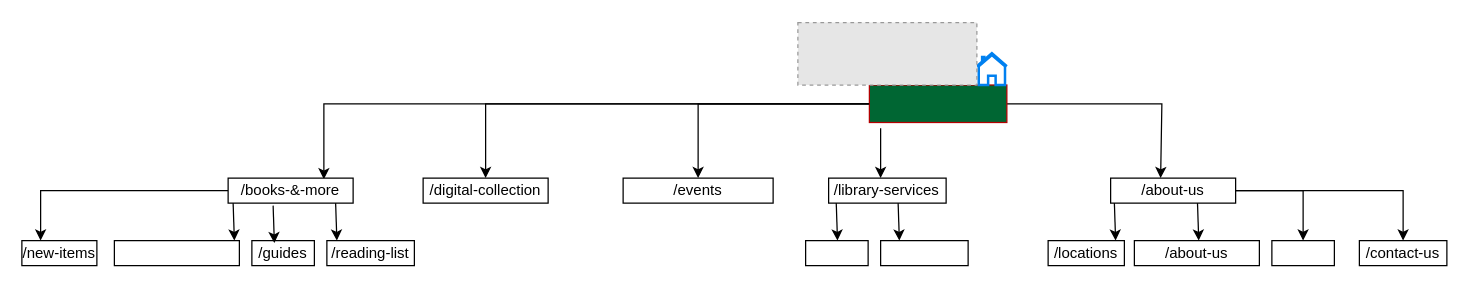
This 1469x288 diagram has some shape labels left out. Grey dashed boxes stand in for pictures. Here are the shapes that lost their labels. From the top down, the box of each, then its label:
(868, 84, 1007, 122): https://alexlibraryva.org/
(113, 239, 239, 266): /recommended
(804, 239, 868, 266): /tech
(879, 239, 968, 266): /reader
(1271, 239, 1334, 266): /support
